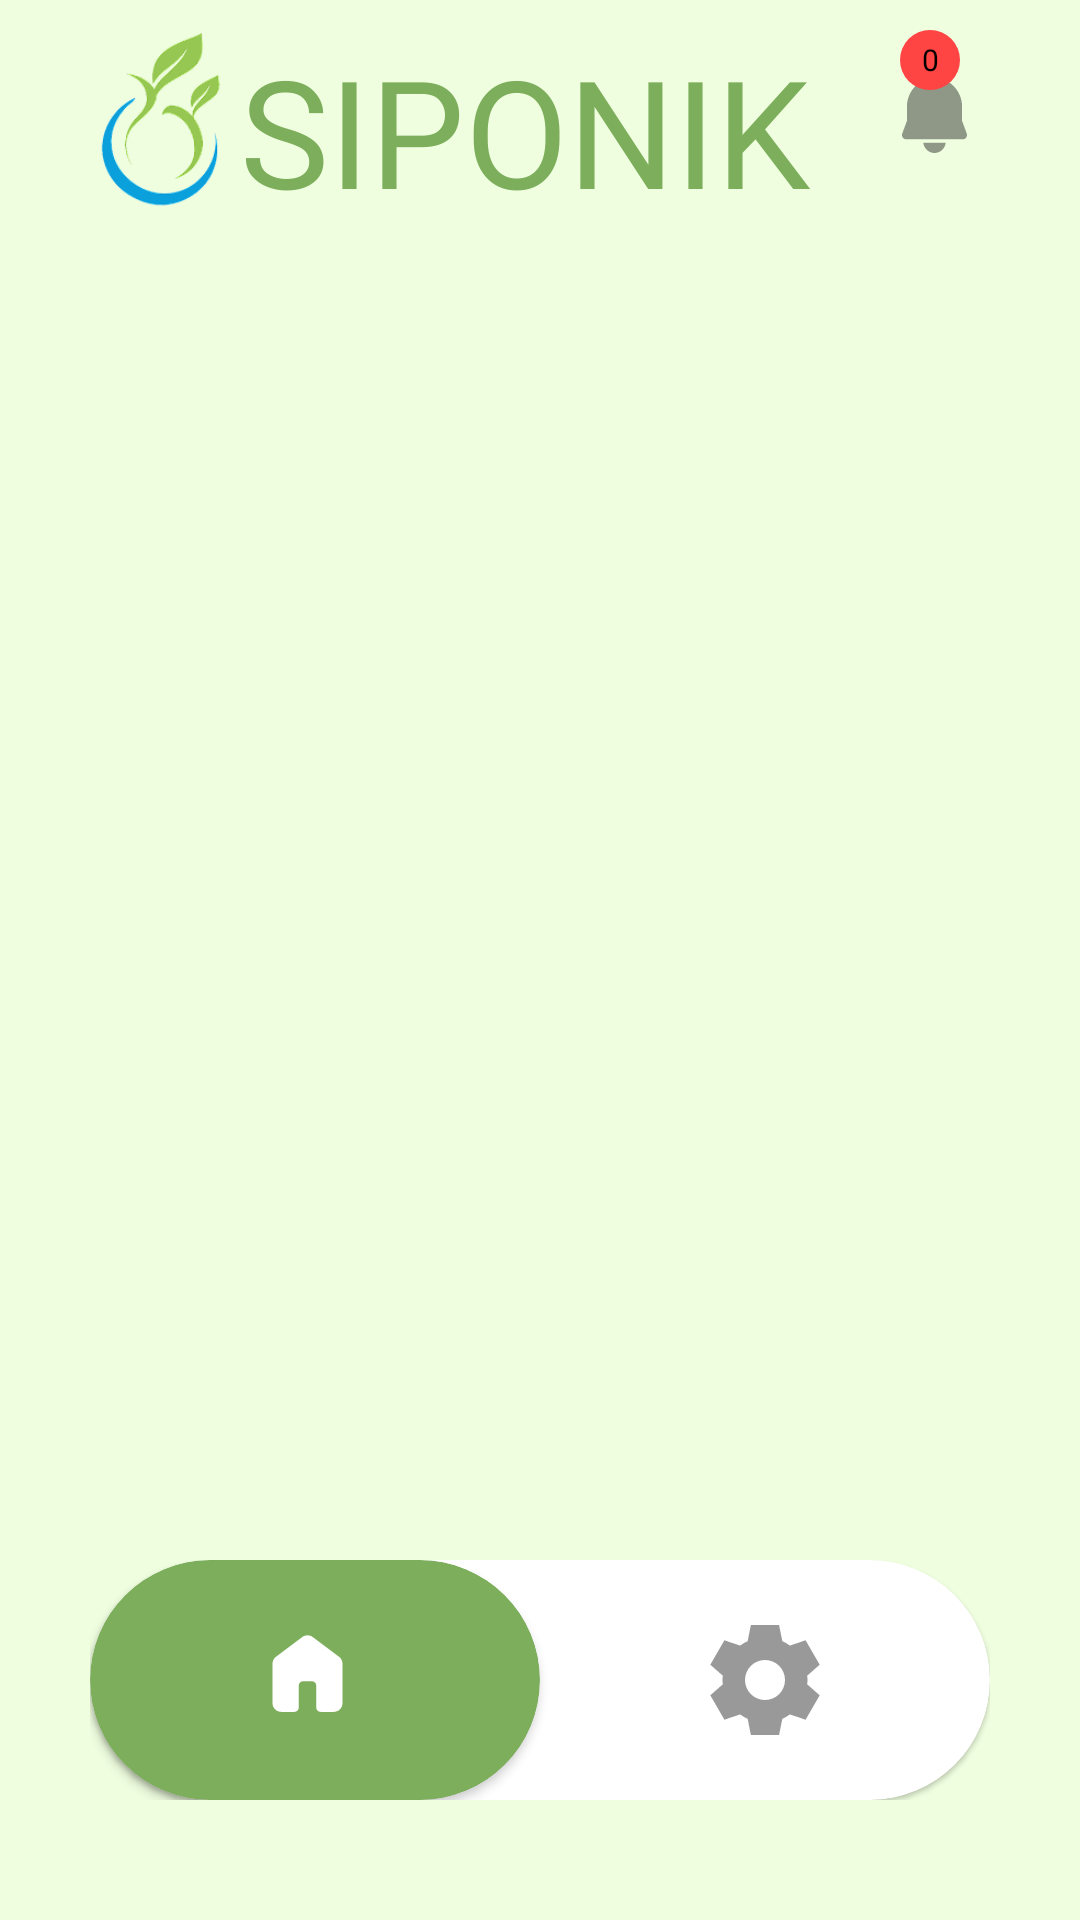

Locate icon controls on the screen. Image size 1080×1920, boxes as (x1, y1, x2, y2).
home: (272, 1635, 343, 1712)
notif: (902, 78, 967, 153)
set: (710, 1625, 820, 1735)
